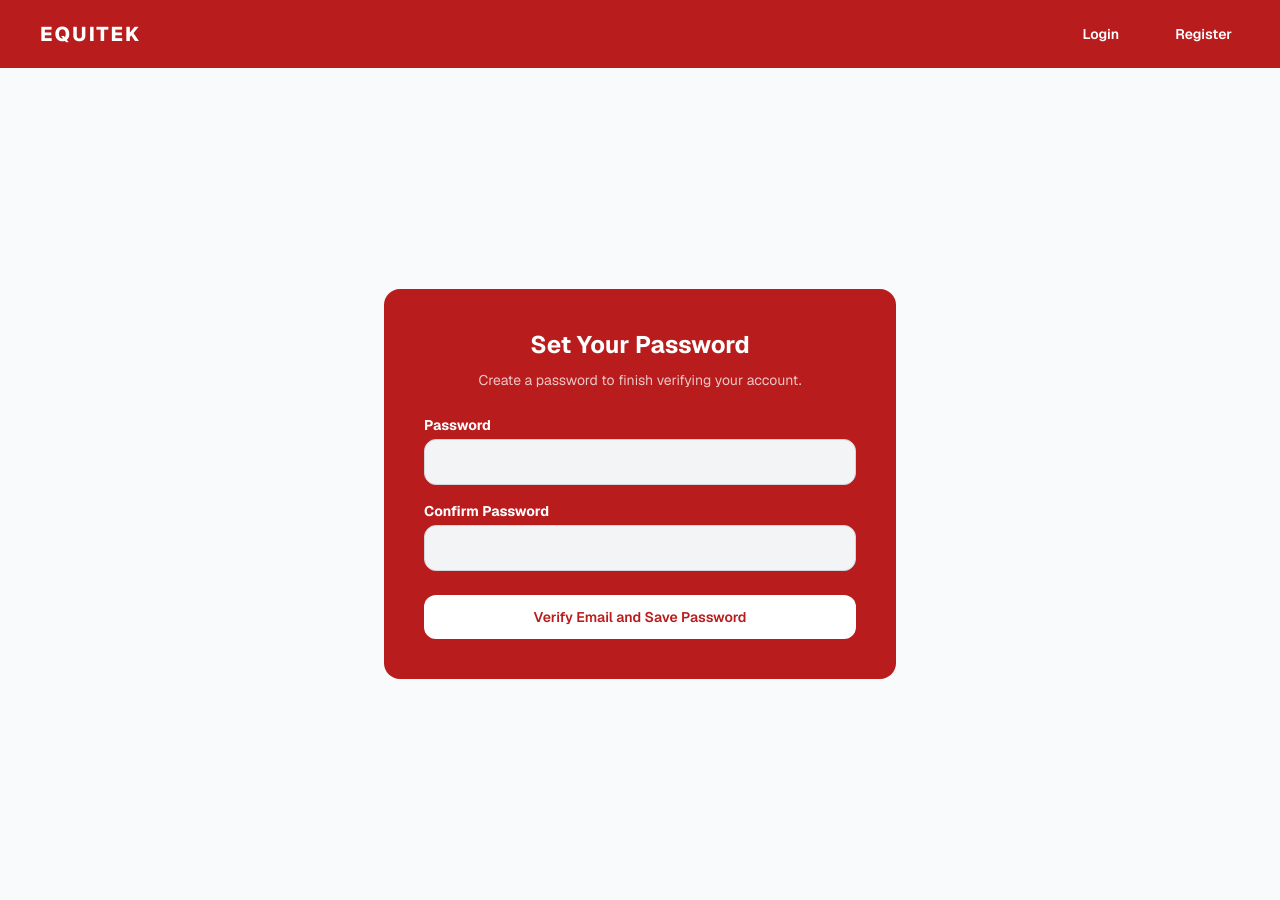
Scenario: Verify Email Page › keeps form state and maps backend field errors on submit
Check: the heading "Set Your Password" is shown, box left=530, top=329, right=750, bottom=360
In the password field labelled "Password": x=640, y=462 left=424, top=439, right=856, bottom=485, type "Strong#123"
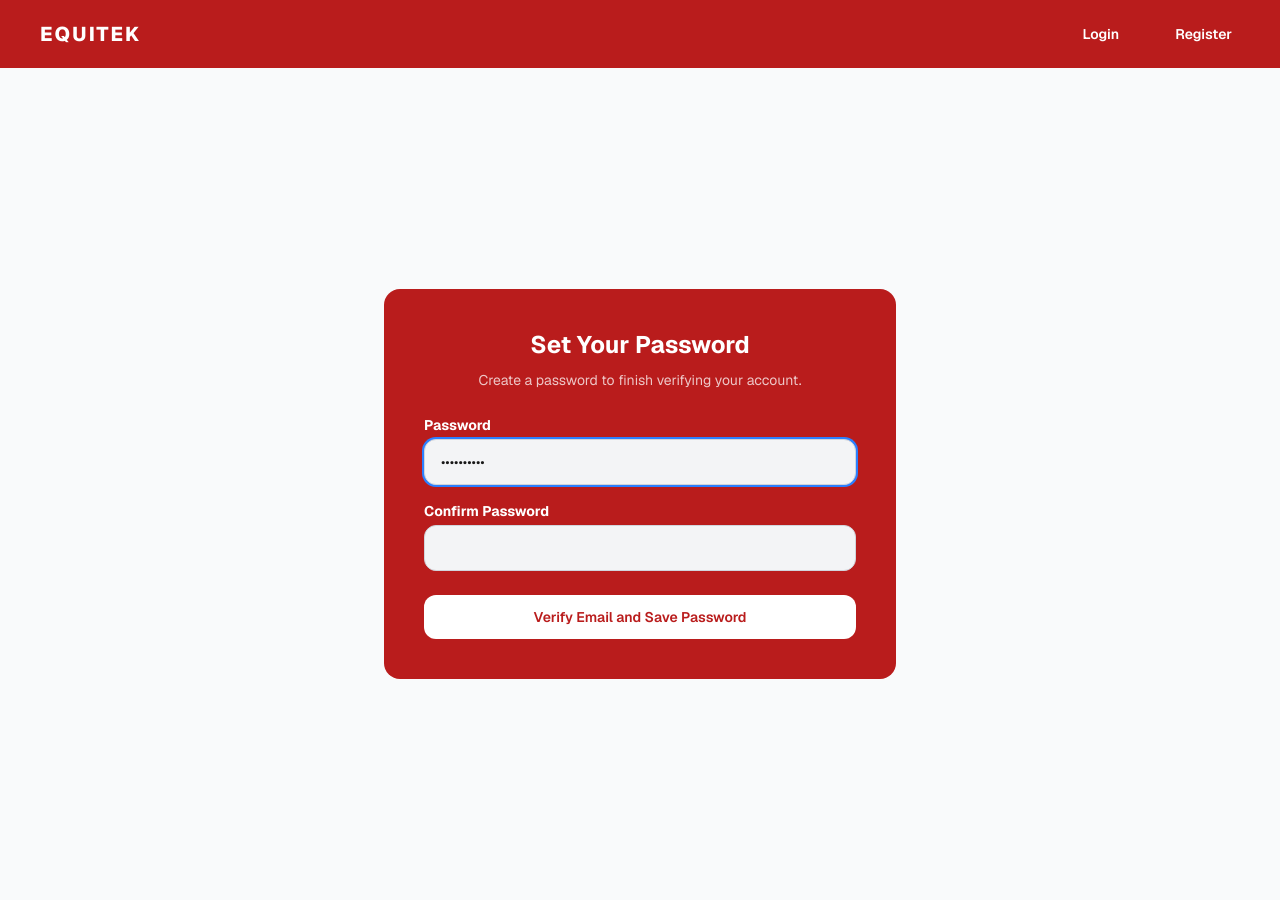
In the password field labelled "Confirm Password": x=640, y=548 left=424, top=525, right=856, bottom=571, type "Strong#123"
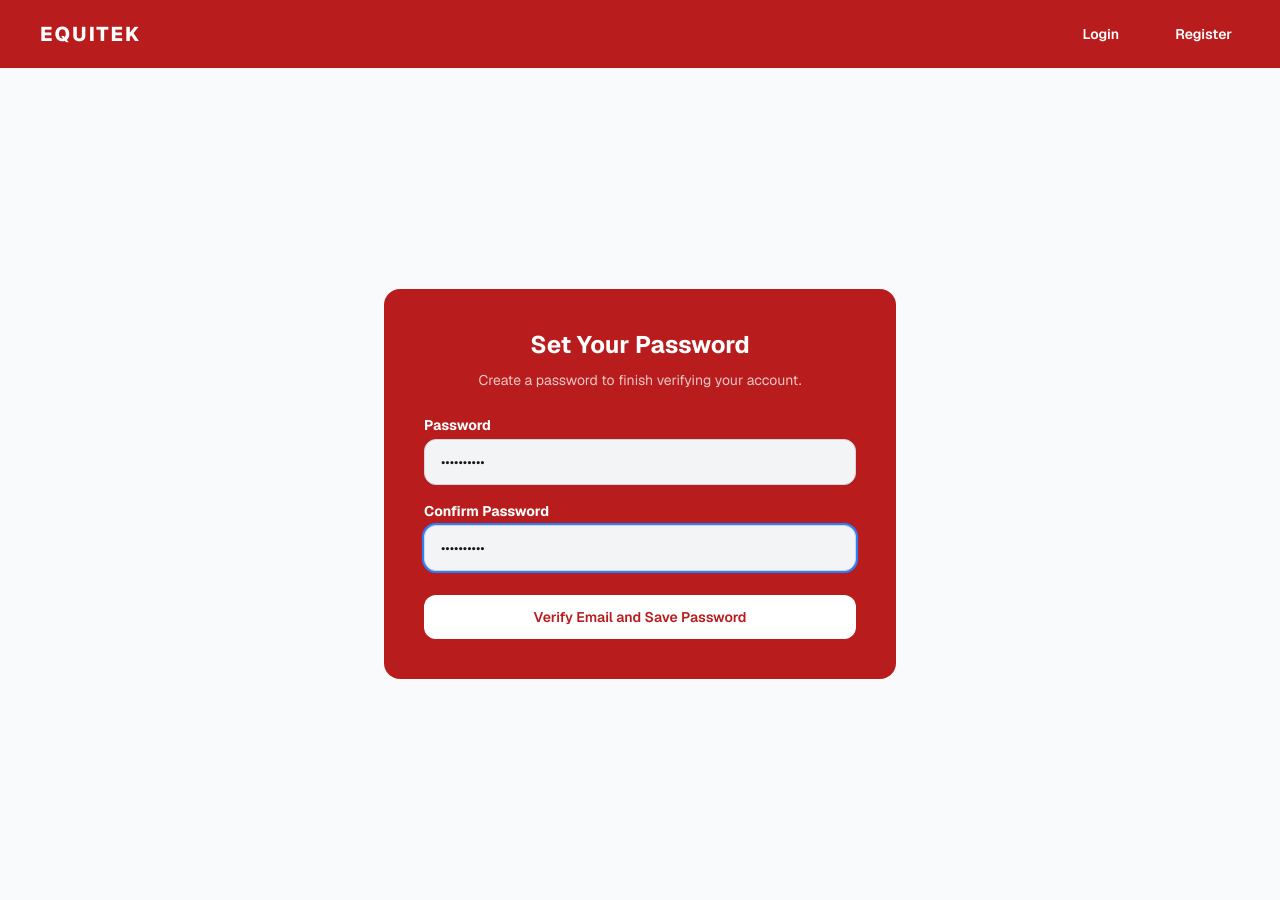
Click the button "Verify Email and Save Password": x=640, y=617 left=424, top=595, right=856, bottom=639
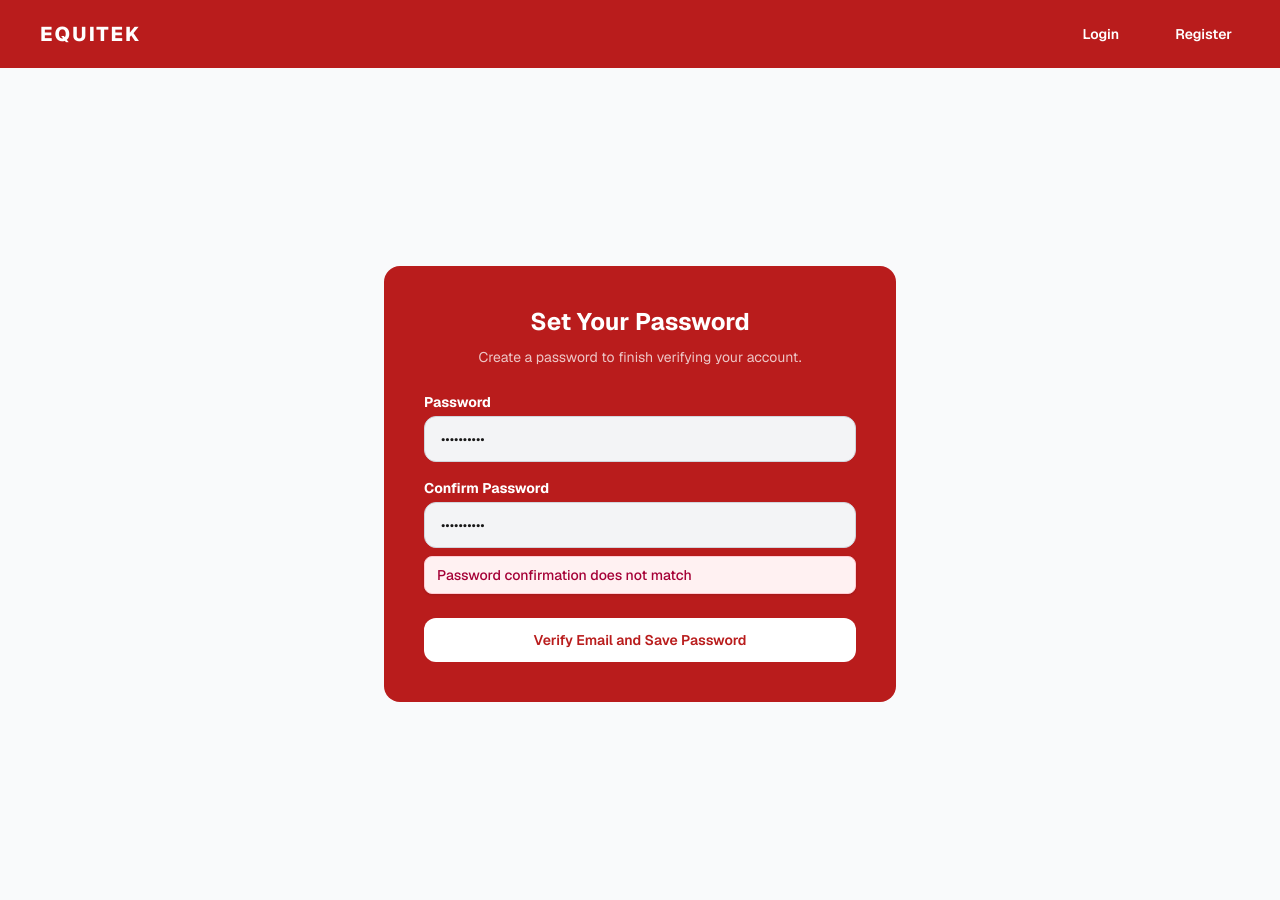
Check: the heading "Set Your Password" is shown, box left=530, top=306, right=750, bottom=337
Check: the text "Password confirmation does not match" is shown, box left=424, top=556, right=856, bottom=594
